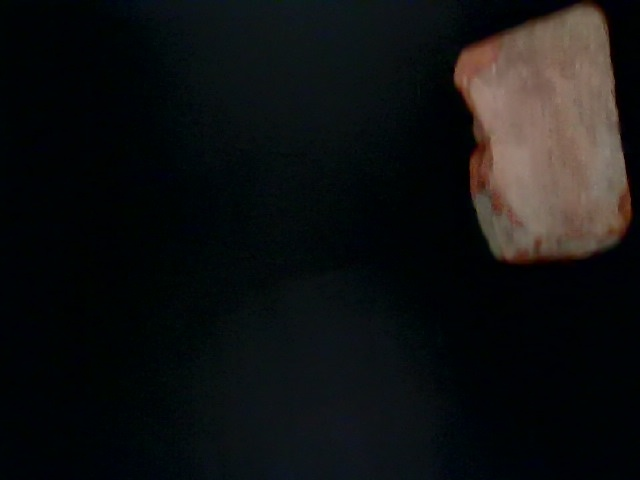KHSLJ: (1, 92, 317, 417)
